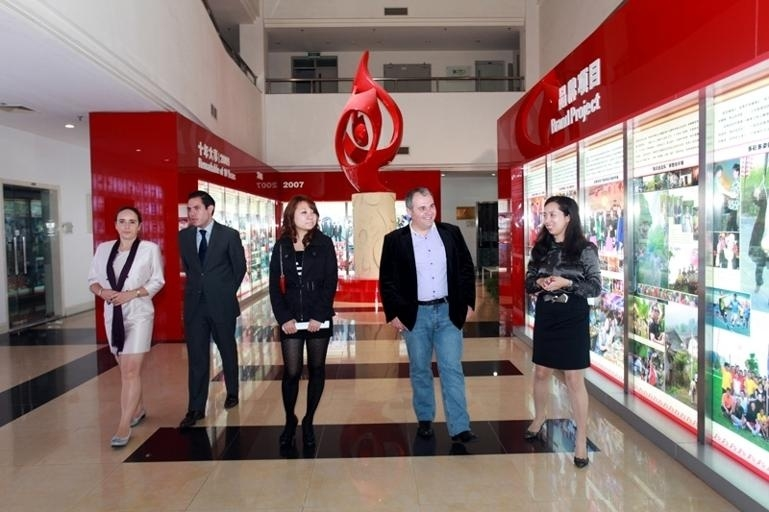People: (380, 187, 476, 440), (524, 196, 600, 467), (89, 206, 164, 447), (269, 195, 337, 446), (178, 190, 245, 428)
